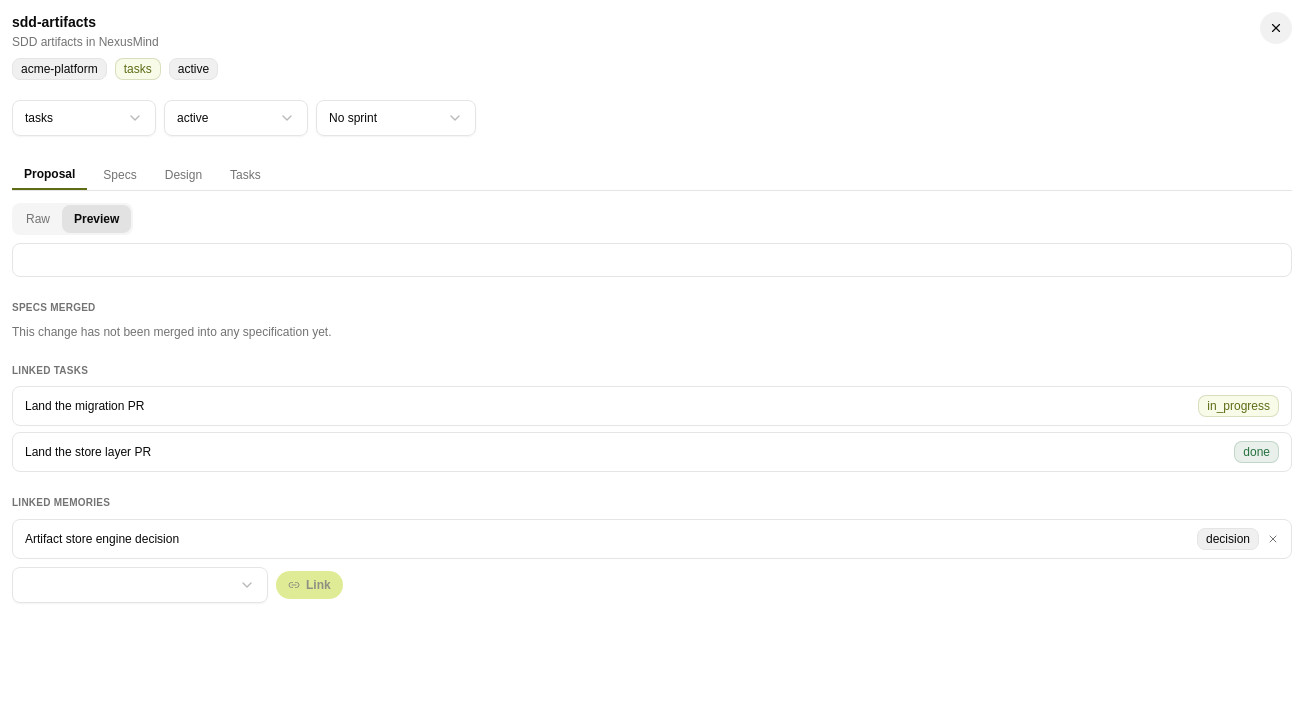
ChangeDetail — revision selector › change_detail_revision_selector_refetches_and_renders_the_selected_revision
Step 1. Click the tab "Tasks" → x=245, y=175, box [218,161,273,189]
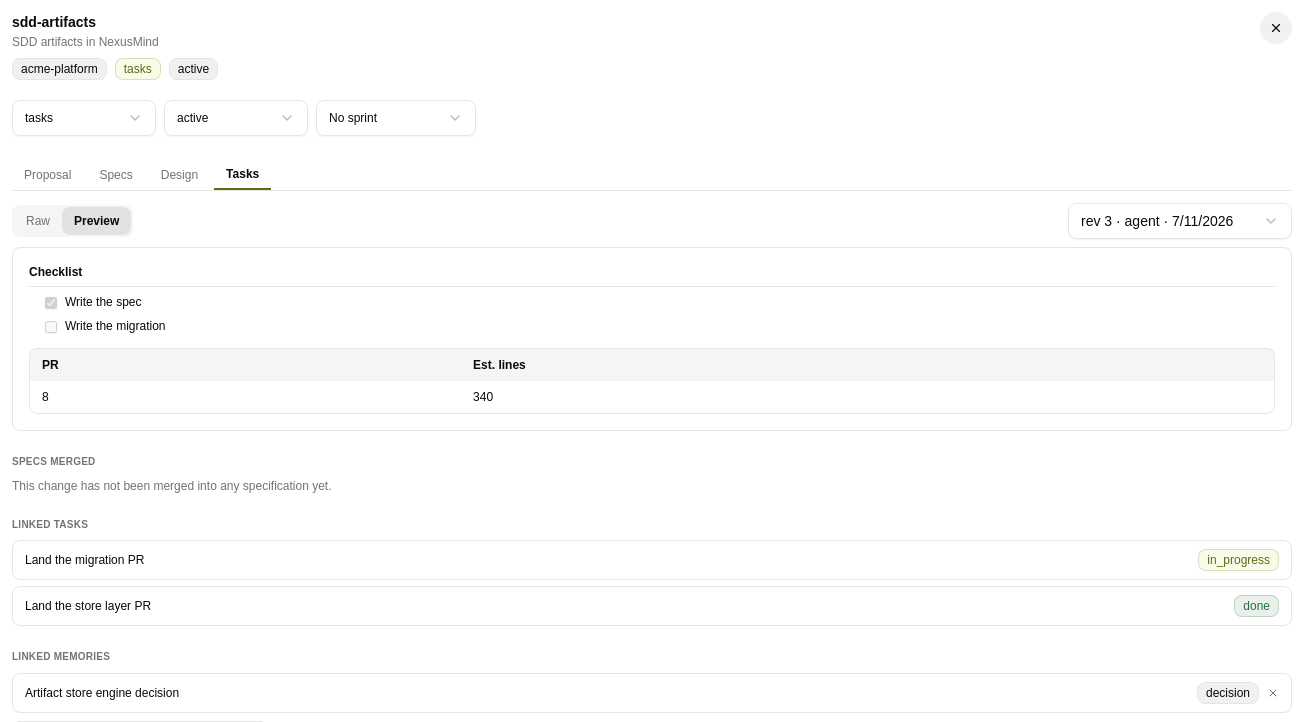
Expected: the list item "Write the migration" is shown, [45,318,166,332]
Step 2. Press Enter in the dropdown named "revision", box [1068,203,1292,239]
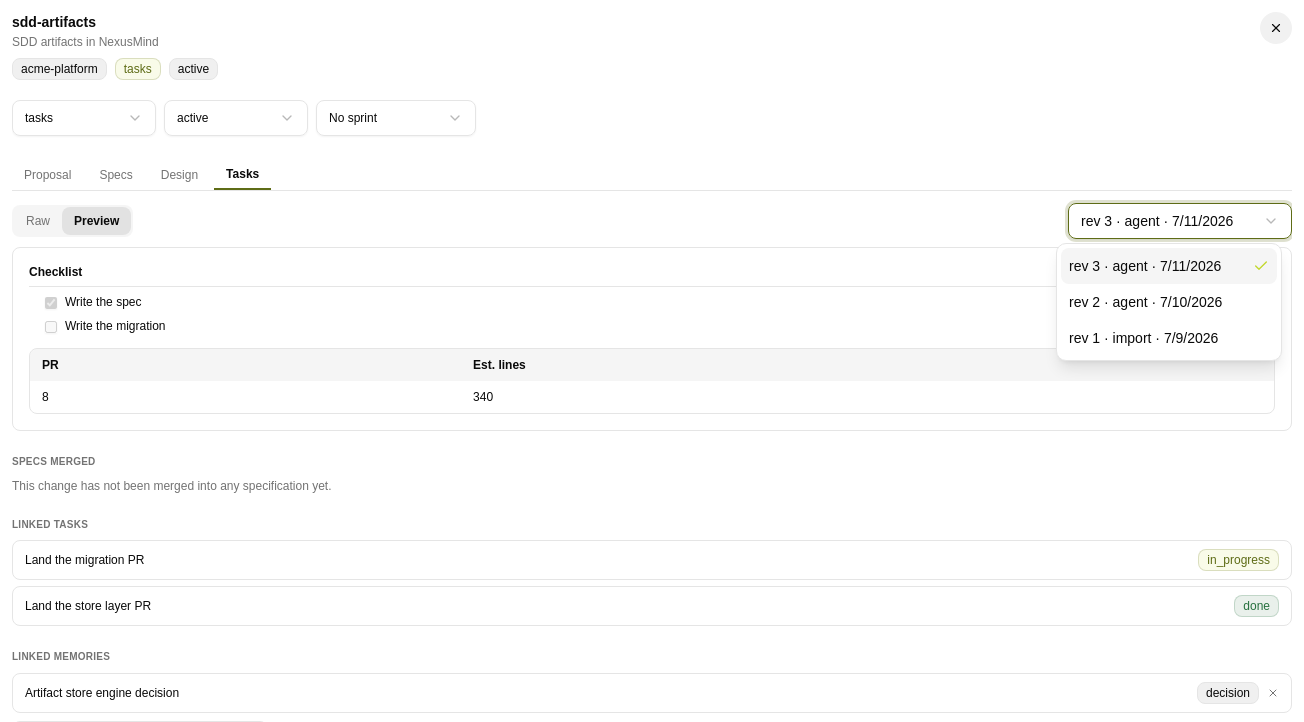
Step 3. Click the option "rev 1 · import · 7/9/2026" → x=1144, y=338, box [1069,330,1218,346]
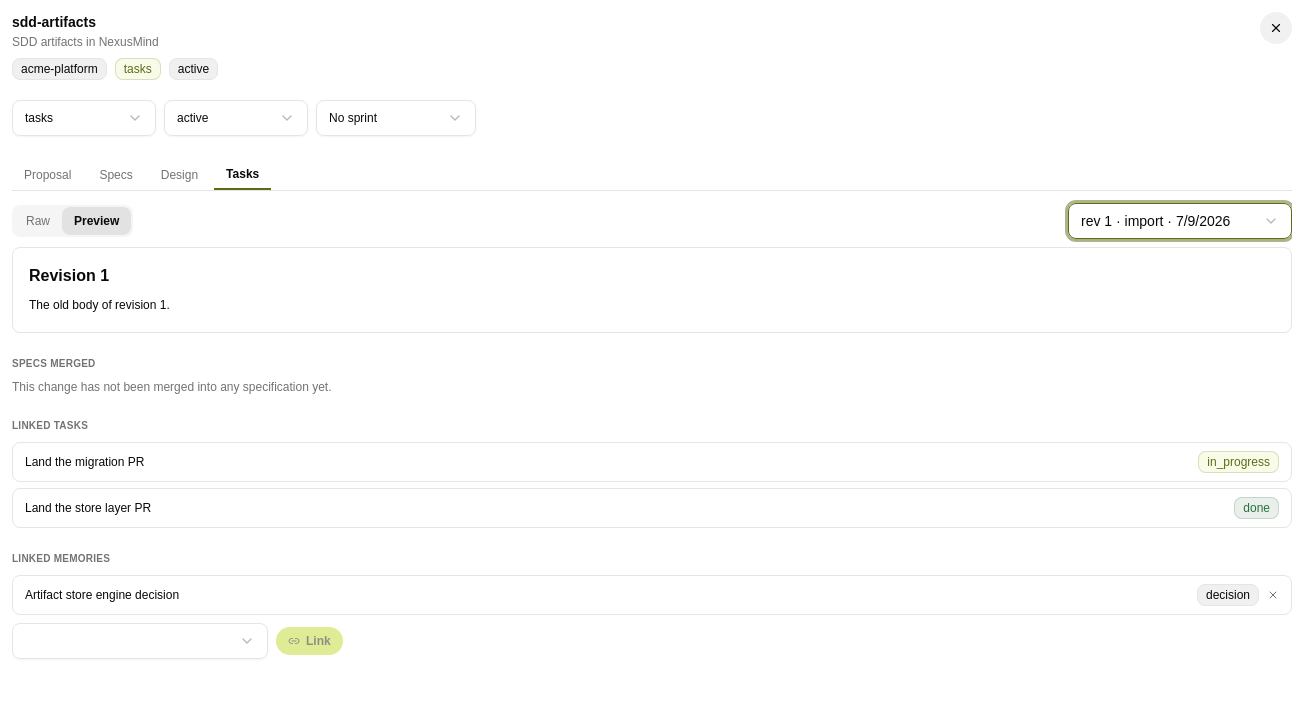
Expected: the text "The old body of revision 1." is shown, [29,298,170,312]
Expected: the list item "Write the migration" is gone
